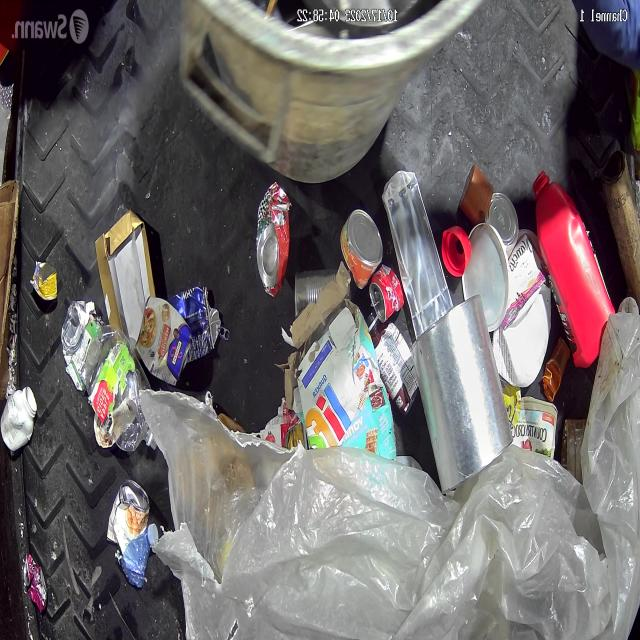can: (134, 293, 193, 390), (61, 297, 104, 395), (256, 181, 292, 298), (339, 208, 384, 290), (106, 478, 151, 557), (294, 266, 351, 320), (368, 264, 404, 324), (23, 551, 48, 613)
non_white_jug: (532, 171, 616, 370)
